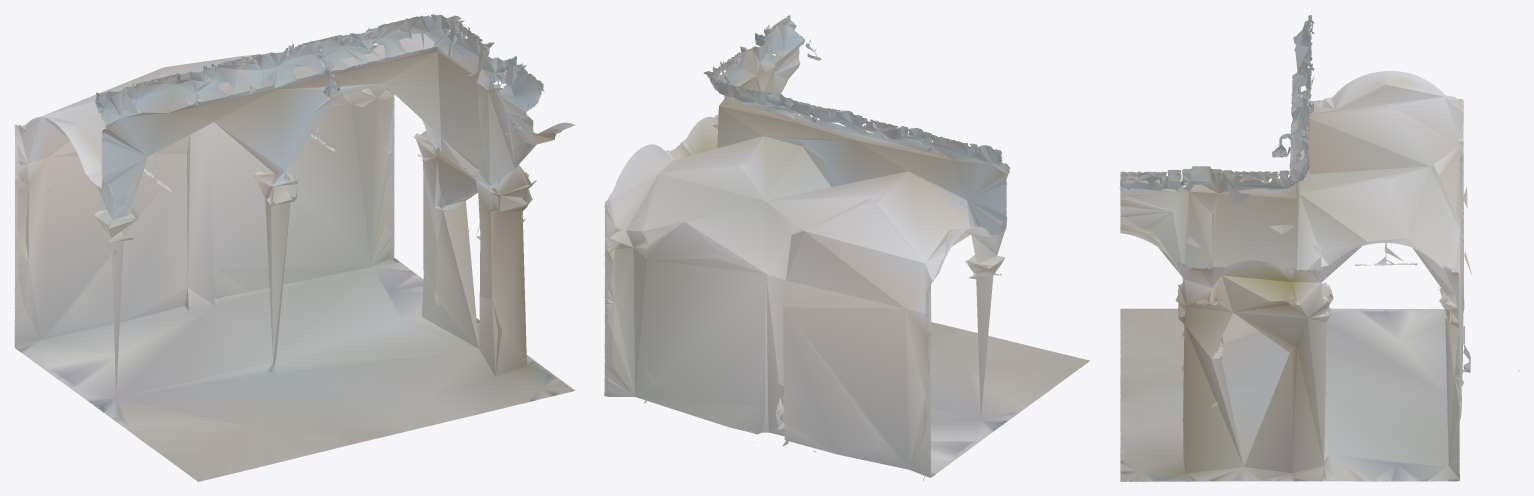
3 views of the same model, side by side, from view 1: azimuth 30°, elevation 25°; view 2: azimuth 150°, elevation 25°; view 3: azimuth 270°, elevation 25° (orthographic). The views are drawn at different scales.
Size of the model in its own units: 10.05 by 8.28 by 9.83.
